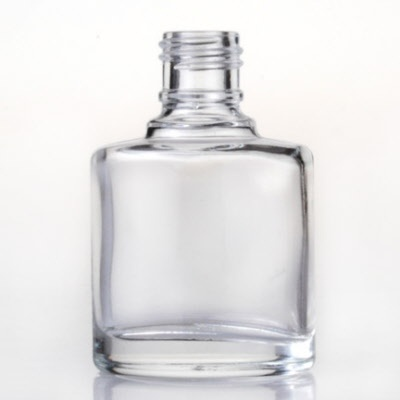emptybottle: (89, 30, 316, 382)
